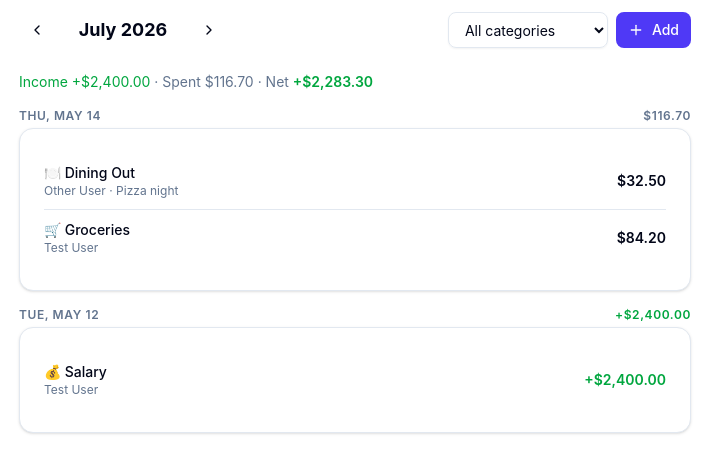
Test: TransactionsPage › shows a Today button only when off the current month
The image size is (708, 451).
expect the text "🛒 Groceries" is shown: met, box [44,221,130,238]
expect the button "today" is not shown: met
Click the button named "previous month": [37, 30] box [19,12,55,48]
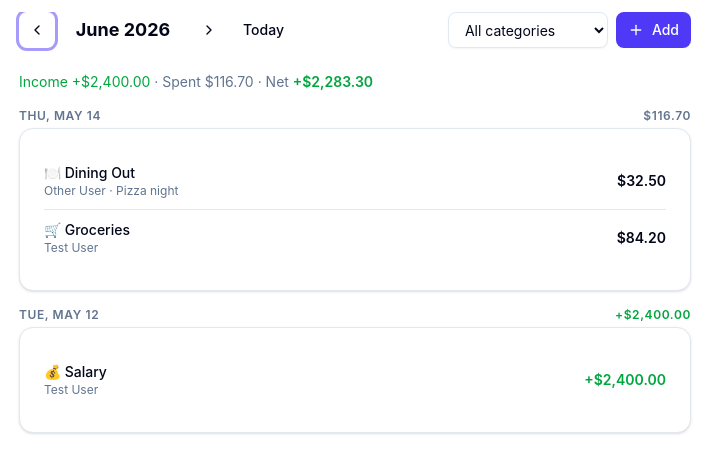
Click the button "Today": [264, 30] box [231,14,296,46]
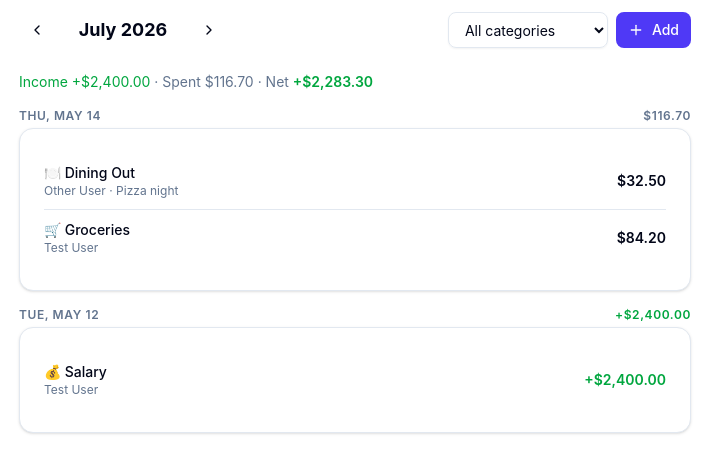
expect the button "Today" is gone: met
